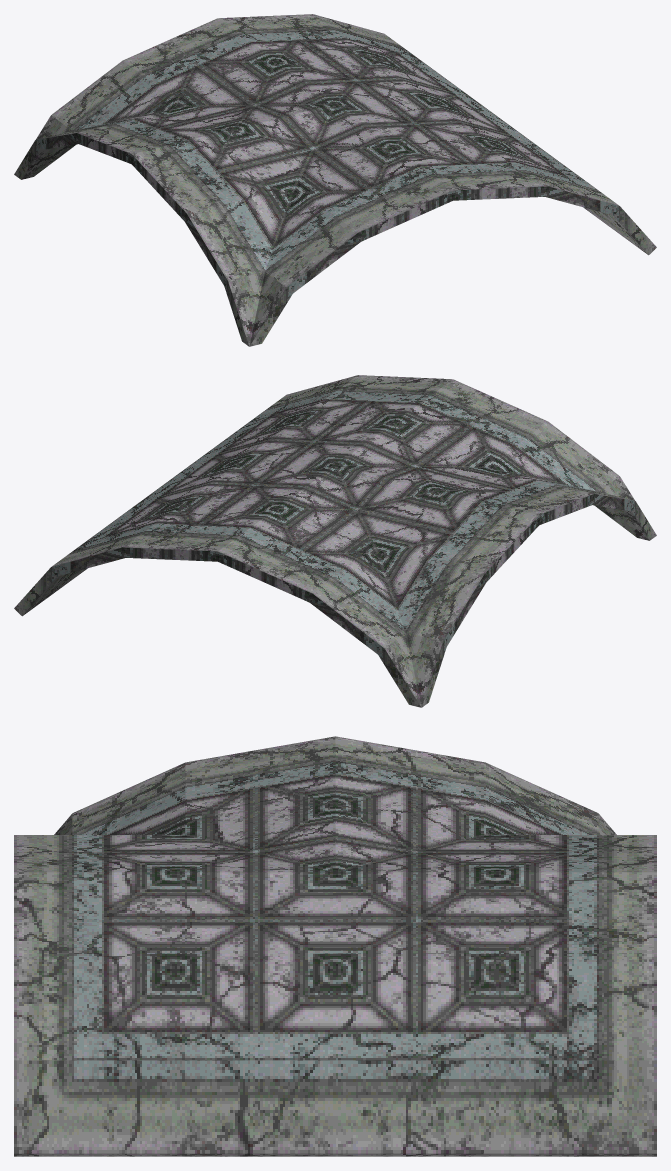
File: roof_set1_02.gltf
The picture shows the model from 3 angles, top to bottom: view 1: azimuth 30°, elevation 25°; view 2: azimuth 150°, elevation 25°; view 3: azimuth 270°, elevation 25°; orthographic projection. The views are drawn at different scales.
Parts seen in each view (by area): view 1: roof_set1_02; view 2: roof_set1_02; view 3: roof_set1_02.
Boxes of the visible parts, bbox=[...] form: roof_set1_02: bbox=[14, 14, 656, 346]; roof_set1_02: bbox=[14, 375, 656, 707]; roof_set1_02: bbox=[14, 736, 656, 1156].
Bounding box in the file's own units: 4 × 1.06 × 4.
1 material, 1 textured.
